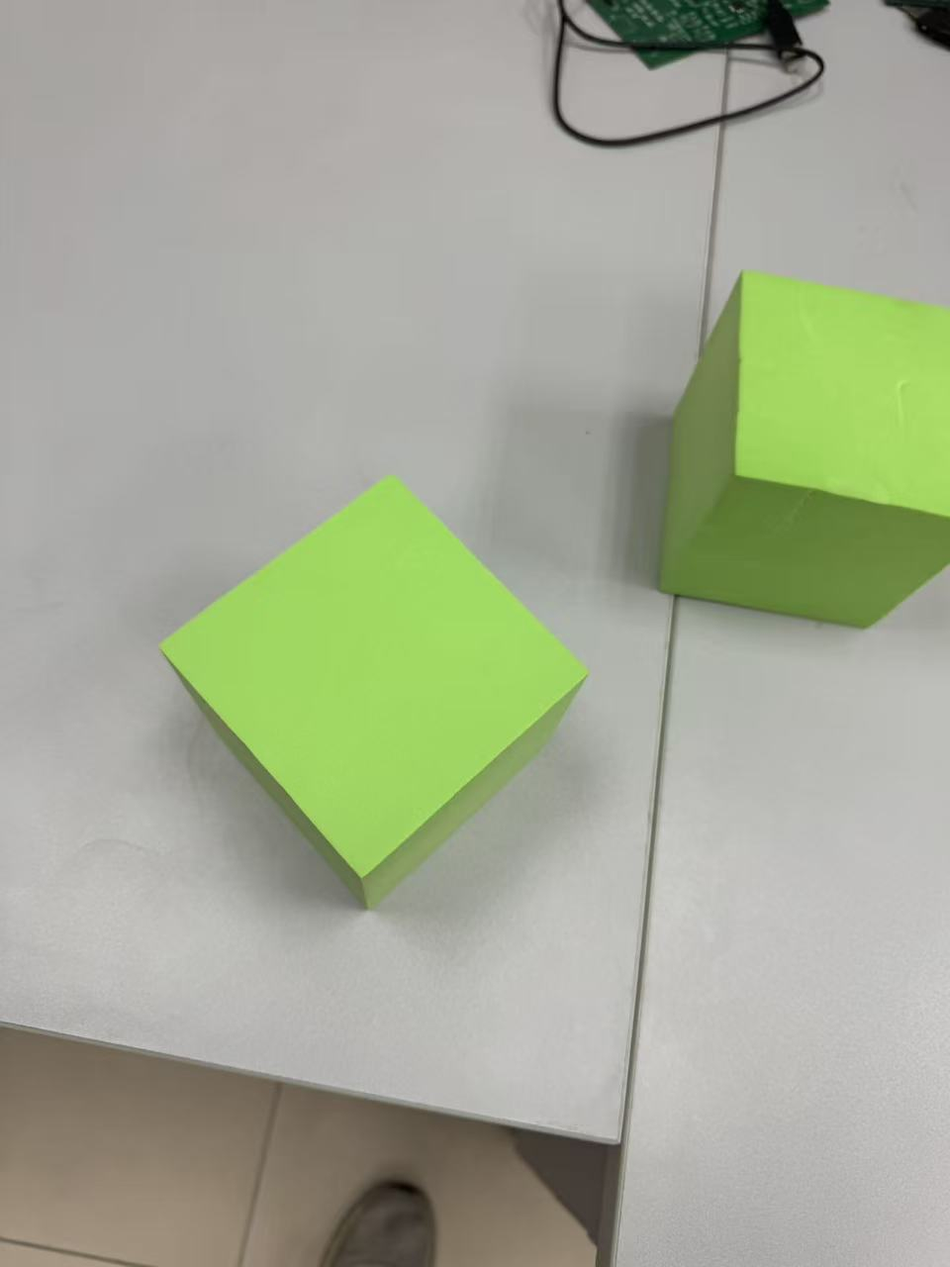green_small: (147, 470, 587, 910), (663, 269, 948, 630)
